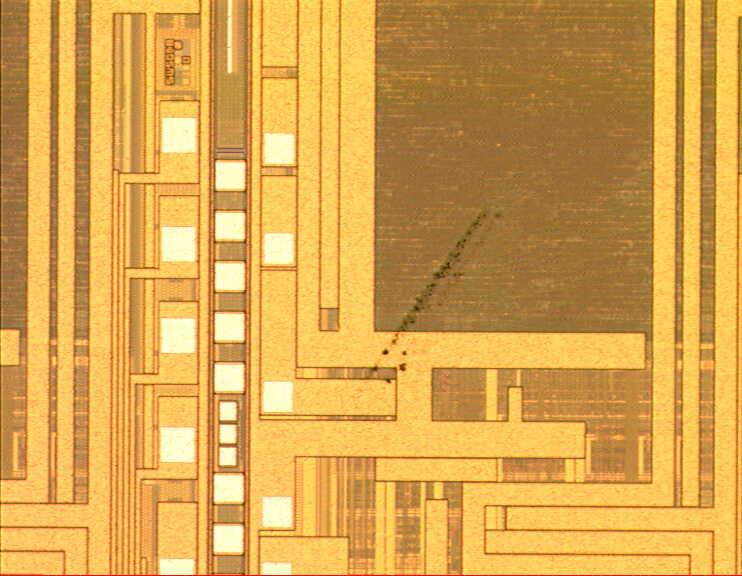SCRATCH: (300, 206, 535, 462)
